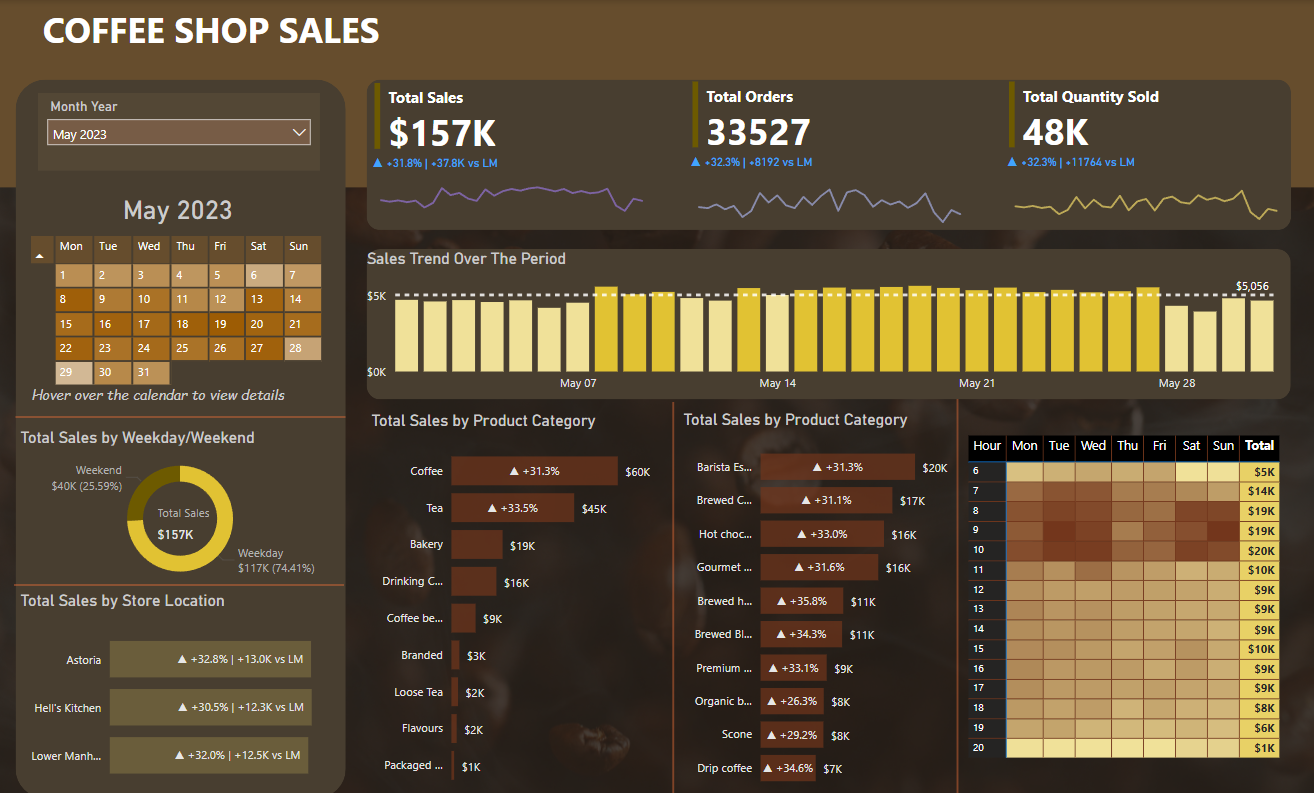

This screenshot's page, from the dashboard's own definition file:
{"tool":"powerbi","page":{"name":"Coffee Shop Sales","canvas":[1400,850],"ordinal":0},"visuals":[{"type":"shape","box":[0,0,1400,199.4],"z":0},{"type":"shape","box":[17.2,84.4,351.4,764.9],"z":1000},{"type":"shape","box":[391.1,84.4,983.7,160.2],"z":2000},{"type":"textbox","box":[41.3,0,389.3,60.3],"z":3000},{"type":"cardVisual","fields":{"Data":["Transactions.Total Orders"]},"box":[731.8,81,299.8,81],"z":4000,"group":"g2"},{"type":"cardVisual","fields":{"Data":["Transactions.Total Quantity Sold"]},"box":[1069.7,81,299.8,81],"z":4000,"group":"g3"},{"type":"cardVisual","fields":{"Data":["Transactions.Total Sales"]},"box":[394.3,83,299.8,81],"z":4000,"group":"g1"},{"type":"slicer","fields":{"Values":["Date Table.Month Year"]},"box":[41.5,98.9,300,83],"z":4000},{"type":"group","id":"g1","title":"Group 1","box":[391,83,308,161.2],"z":5000},{"type":"group","id":"g2","title":"Group 1","box":[728.5,81,308.4,161.9],"z":6000},{"type":"lineChart","fields":{"Category":["Date Table.Date.Variation.Date Hierarchy.Year","Date Table.Date.Variation.Date Hierarchy.Quarter","Date Table.Date.Variation.Date Hierarchy.Month","Date Table.Date.Variation.Date Hierarchy.Day"],"Y":["Transactions.Total Orders"]},"box":[728.5,163.3,308,78.2],"z":6000,"group":"g2"},{"type":"lineChart","fields":{"Category":["Date Table.Date.Variation.Date Hierarchy.Year","Date Table.Date.Variation.Date Hierarchy.Quarter","Date Table.Date.Variation.Date Hierarchy.Month","Date Table.Date.Variation.Date Hierarchy.Day"],"Y":["Transactions.Total Quantity Sold"]},"box":[1066.4,163.3,308,78.2],"z":6000,"group":"g3"},{"type":"lineChart","fields":{"Category":["Date Table.Date.Variation.Date Hierarchy.Year","Date Table.Date.Variation.Date Hierarchy.Quarter","Date Table.Date.Variation.Date Hierarchy.Month","Date Table.Date.Variation.Date Hierarchy.Day"],"Y":["Transactions.Total Sales"]},"box":[391,165.3,308,78.2],"z":6000,"group":"g1"},{"type":"group","id":"g3","title":"Group 1","box":[1066.4,81,308.4,161.9],"z":7000},{"type":"pivotTable","fields":{"Rows":["Date Table.Week Number"],"Columns":["Date Table.Day Name"],"Values":["Min(Date Table.Day Number)"]},"box":[28.7,245.7,339.9,197.9],"z":8000},{"type":"cardVisual","fields":{"Data":["Min(Date Table.Month Year)"]},"box":[114.9,181.9,153.2,63.8],"z":9000},{"type":"cardVisual","fields":{"Data":["Transactions.Foot Note"]},"box":[17.6,384.6,355.9,59],"z":10000},{"type":"shape","box":[16,616,351.1,12.8],"z":11000},{"type":"donutChart","fields":{"Category":["Date Table.Weekday/Weekend"],"Y":["Transactions.Total Sales"]},"box":[17.6,454.8,349.5,173.9],"z":12000},{"type":"cardVisual","fields":{"Data":["Transactions.Total Sales"]},"box":[151.6,520.2,97.3,62.2],"z":13000},{"type":"shape","box":[17.6,437.2,351.1,12.8],"z":14000},{"type":"barChart","title":"Total Sales by Store Location","fields":{"Category":["Transactions.store_location"],"Y":["Transactions.Placeholder","Transactions.Total Sales"]},"box":[17.7,629.1,350,221.5],"z":15000},{"type":"shape","box":[391.7,265,983.3,160],"z":16000},{"type":"columnChart","title":"Sales Trend Over The Period","fields":{"Category":["Transactions.transaction_date"],"Y":["Transactions.Total Sales"]},"box":[386.7,265,983.3,160],"z":17000},{"type":"barChart","title":"Total Sales by Product Category","fields":{"Category":["Transactions.product_category"],"Y":["Transactions.Total Sales","Transactions.Placeholder"]},"box":[391,437.2,309.6,413.3],"z":18000},{"type":"shape","box":[1013.3,424.5,12.8,422.9],"z":19000},{"type":"barChart","title":"Total Sales by Product Category","fields":{"Y":["Transactions.Total Sales","Transactions.Placeholder"],"Category":["Transactions.product_type"]},"box":[722.9,435.6,296.8,414.9],"z":21000},{"type":"shape","box":[711.7,427.7,11.2,422.9],"z":22000},{"type":"pivotTable","fields":{"Rows":["Transactions.Hour"],"Columns":["Date Table.Day Name"],"Values":["Transactions.Total Sales"]},"box":[1026.1,458,351.1,362.2],"z":22001}]}

Visuals, with their boxes in screenshot pixels (x1, y1, x2, y2), scaled from the page's 1400x850 canvas onto the 1314x793 screenshot:
shape: (0,0,1313,186)
shape: (16,79,346,792)
shape: (367,79,1290,228)
textbox: (39,0,404,56)
cardVisual - Transactions.Total Orders: (687,76,968,151)
cardVisual - Transactions.Total Quantity Sold: (1004,76,1285,151)
cardVisual - Transactions.Total Sales: (370,77,651,153)
slicer - Date Table.Month Year: (39,92,321,170)
"Group 1" group: (367,77,656,228)
"Group 1" group: (684,76,973,227)
lineChart - Date Table.Date.Variation.Date Hierarchy.Year x Date Table.Date.Variation.Date Hierarchy.Quarter: (684,152,973,225)
lineChart - Date Table.Date.Variation.Date Hierarchy.Year x Date Table.Date.Variation.Date Hierarchy.Quarter: (1001,152,1290,225)
lineChart - Date Table.Date.Variation.Date Hierarchy.Year x Date Table.Date.Variation.Date Hierarchy.Quarter: (367,154,656,227)
"Group 1" group: (1001,76,1290,227)
pivotTable - Date Table.Week Number x Date Table.Day Name: (27,229,346,414)
cardVisual - Min(Date Table.Month Year): (108,170,252,229)
cardVisual - Transactions.Foot Note: (17,359,351,414)
shape: (15,575,345,587)
donutChart - Date Table.Weekday/Weekend x Transactions.Total Sales: (17,424,345,587)
cardVisual - Transactions.Total Sales: (142,485,234,543)
shape: (17,408,346,420)
"Total Sales by Store Location" barChart: (17,587,345,792)
shape: (368,247,1291,396)
"Sales Trend Over The Period" columnChart: (363,247,1286,396)
"Total Sales by Product Category" barChart: (367,408,658,792)
shape: (951,396,963,791)
"Total Sales by Product Category" barChart: (678,406,957,792)
shape: (668,399,678,792)
pivotTable - Transactions.Hour x Date Table.Day Name: (963,427,1293,765)
